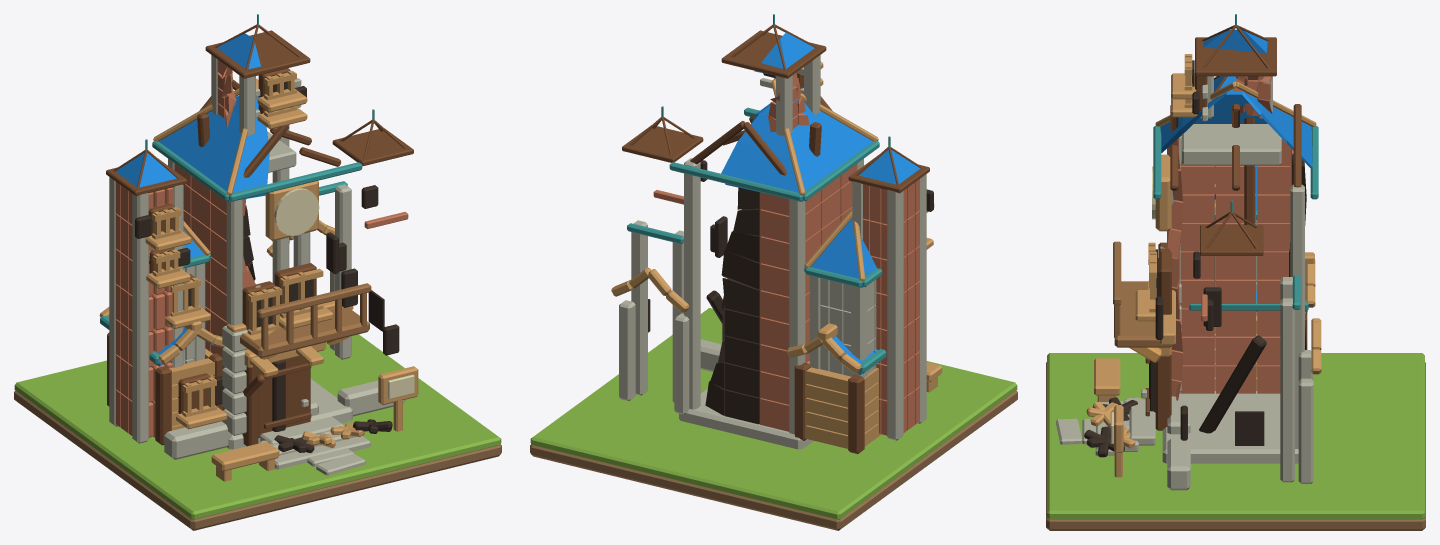
The model's file is town_hall_l11_damaged_LOD0.glb.
The picture shows the model from 3 angles, left to right: view 1: azimuth 30°, elevation 25°; view 2: azimuth 150°, elevation 25°; view 3: azimuth 270°, elevation 25°; orthographic projection. The views are drawn at different scales.
Visible parts, largest first — view 1: town_hall_l11_damaged_grass_tile, town_hall_l11_damaged_earth_tile, town_hall_l11_damaged_corner_reinforcement.024, town_hall_l11_damaged_premium_balcony_floor, town_hall_l11_damaged_hip_roof_shingle.011, town_hall_l11_damaged_corner_reinforcement, town_hall_l11_damaged_door_recess, town_hall_l11_damaged_central_spire_cornice, town_hall_l11_damaged_stone_foundation_course, town_hall_l11_damaged_right_spire_cornice, town_hall_l11_damaged_corner_reinforcement.025, town_hall_l11_damaged_clock_face (+34 smaller); view 2: town_hall_l11_damaged_grass_tile, town_hall_l11_damaged_earth_tile, town_hall_l11_damaged_corner_reinforcement.025, town_hall_l11_damaged_corner_reinforcement.003, town_hall_l11_damaged_corner_reinforcement.001, town_hall_l11_damaged_hip_roof_shingle.011, town_hall_l11_damaged_corner_reinforcement.019, town_hall_l11_damaged_hip_roof_shingle.008, town_hall_l11_damaged_foundation, town_hall_l11_damaged_central_spire_cornice, town_hall_l11_damaged_right_spire_cornice, town_hall_l11_damaged_corner_reinforcement.024 (+41 smaller); view 3: town_hall_l11_damaged_grass_tile, town_hall_l11_damaged_foundation, town_hall_l11_damaged_earth_tile, town_hall_l11_damaged_surviving_tower_course, town_hall_l11_damaged_corner_reinforcement.019, town_hall_l11_damaged_central_spire_cornice, town_hall_l11_damaged_corner_reinforcement.003, town_hall_l11_damaged_right_spire_cornice, town_hall_l11_damaged_premium_balcony_floor, town_hall_l11_damaged_corner_reinforcement.011, town_hall_l11_damaged_collapsed_roof_beam, town_hall_l11_damaged_stone_foundation_course.002 (+46 smaller).
Part boxes in pixels (x1,y1,x2,y2): town_hall_l11_damaged_grass_tile: (14, 334, 501, 519); town_hall_l11_damaged_earth_tile: (14, 390, 501, 530); town_hall_l11_damaged_corner_reinforcement.024: (132, 193, 148, 443); town_hall_l11_damaged_premium_balcony_floor: (240, 307, 369, 357); town_hall_l11_damaged_hip_roof_shingle.011: (159, 124, 235, 201); town_hall_l11_damaged_corner_reinforcement: (226, 199, 243, 434); town_hall_l11_damaged_door_recess: (258, 356, 310, 437); town_hall_l11_damaged_central_spire_cornice: (205, 30, 310, 78); town_hall_l11_damaged_stone_foundation_course: (164, 421, 231, 459); town_hall_l11_damaged_right_spire_cornice: (332, 129, 413, 165); town_hall_l11_damaged_corner_reinforcement.025: (109, 177, 118, 426); town_hall_l11_damaged_clock_face: (274, 188, 319, 235); town_hall_l11_damaged_grass_tile: (530, 308, 1017, 519); town_hall_l11_damaged_earth_tile: (530, 390, 1017, 530); town_hall_l11_damaged_corner_reinforcement.025: (887, 190, 903, 440); town_hall_l11_damaged_corner_reinforcement.003: (684, 158, 700, 409); town_hall_l11_damaged_corner_reinforcement.001: (788, 199, 805, 434); town_hall_l11_damaged_hip_roof_shingle.011: (796, 124, 872, 201); town_hall_l11_damaged_corner_reinforcement.019: (631, 220, 647, 395); town_hall_l11_damaged_hip_roof_shingle.008: (721, 141, 802, 201); town_hall_l11_damaged_foundation: (679, 388, 813, 449); town_hall_l11_damaged_central_spire_cornice: (721, 30, 826, 78); town_hall_l11_damaged_right_spire_cornice: (622, 125, 703, 162); town_hall_l11_damaged_corner_reinforcement.024: (918, 174, 926, 423); town_hall_l11_damaged_grass_tile: (1047, 353, 1424, 519); town_hall_l11_damaged_foundation: (1162, 391, 1298, 463); town_hall_l11_damaged_earth_tile: (1046, 362, 1425, 530); town_hall_l11_damaged_surviving_tower_course: (1182, 124, 1281, 165); town_hall_l11_damaged_corner_reinforcement.019: (1280, 298, 1294, 482); town_hall_l11_damaged_central_spire_cornice: (1195, 37, 1276, 76); town_hall_l11_damaged_corner_reinforcement.003: (1290, 184, 1304, 448); town_hall_l11_damaged_right_spire_cornice: (1200, 225, 1263, 255); town_hall_l11_damaged_premium_balcony_floor: (1114, 281, 1172, 347); town_hall_l11_damaged_corner_reinforcement.011: (1298, 378, 1313, 483); town_hall_l11_damaged_collapsed_roof_beam: (1199, 335, 1266, 433); town_hall_l11_damaged_stone_foundation_course.002: (1167, 438, 1190, 490).
Bounding box in the file's own units: 3.6 × 4.58 × 3.6.
